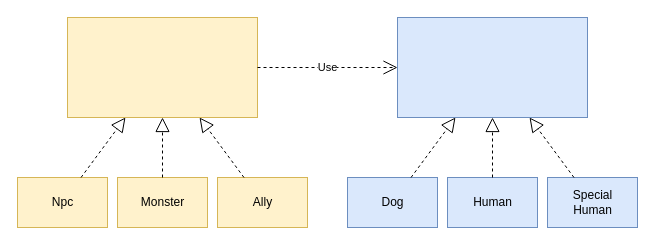
Some shapes in this 655 by 245 pixel diagram are drawn without their labels. The shapes that lost their labels are listed below. From the top down, each one's box as (x1, y1, x2, y2) in pixels, then its label:
(66, 16, 258, 118): AiBase # character: ICharacter + Think(): void
(396, 16, 588, 118): <<Interface>> ICharacter + Idle(): void + Walk(): void + Attack(): void
